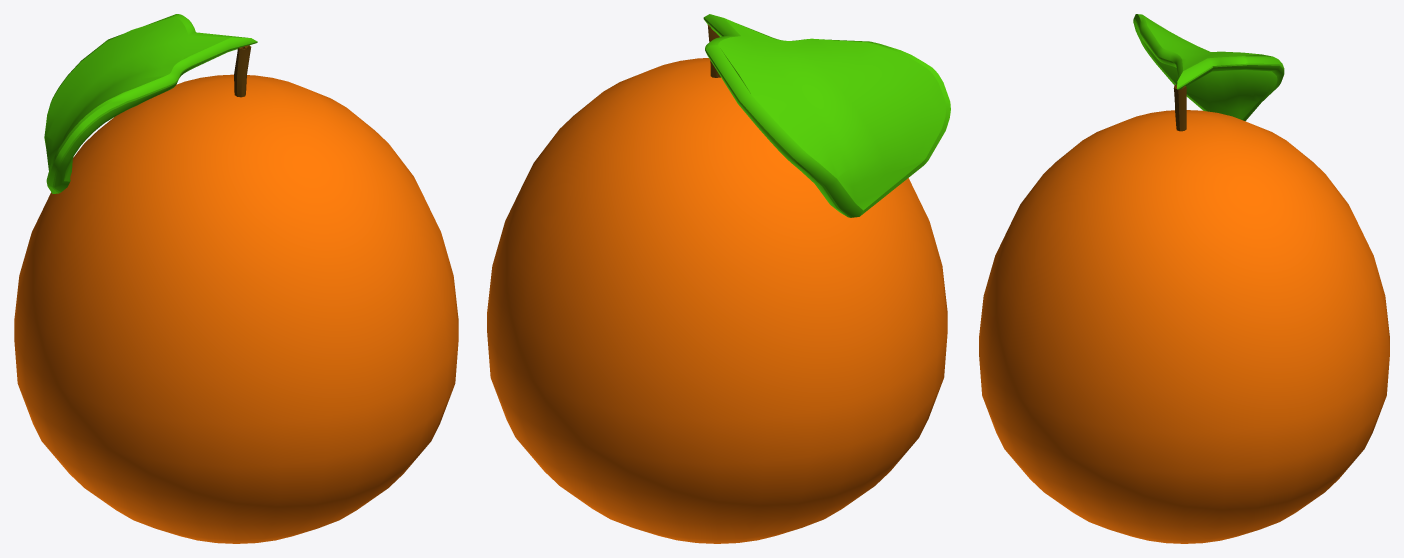
The model's file is orange.fbx.
The picture shows the model from 3 angles, left to right: view 1: azimuth 30°, elevation 25°; view 2: azimuth 150°, elevation 25°; view 3: azimuth 270°, elevation 25°; orthographic projection. The views are drawn at different scales.
Parts seen in each view (by area): view 1: Sphere, leaf, stem; view 2: Sphere, leaf; view 3: Sphere, leaf, stem.
Part boxes in pixels (x1,y1,x2,y2): Sphere: (14, 74, 458, 543); leaf: (44, 14, 257, 193); stem: (234, 45, 251, 97); Sphere: (487, 58, 947, 543); leaf: (703, 14, 950, 217); Sphere: (979, 110, 1389, 543); leaf: (1133, 14, 1284, 121); stem: (1173, 84, 1186, 131).
Size of the model in its own units: 194 by 229 by 188.
